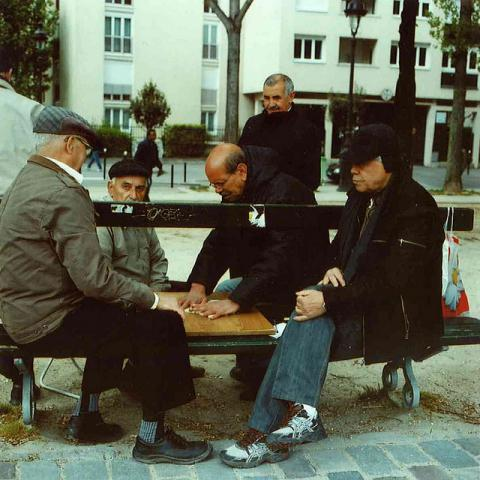car: (324, 160, 339, 183)
